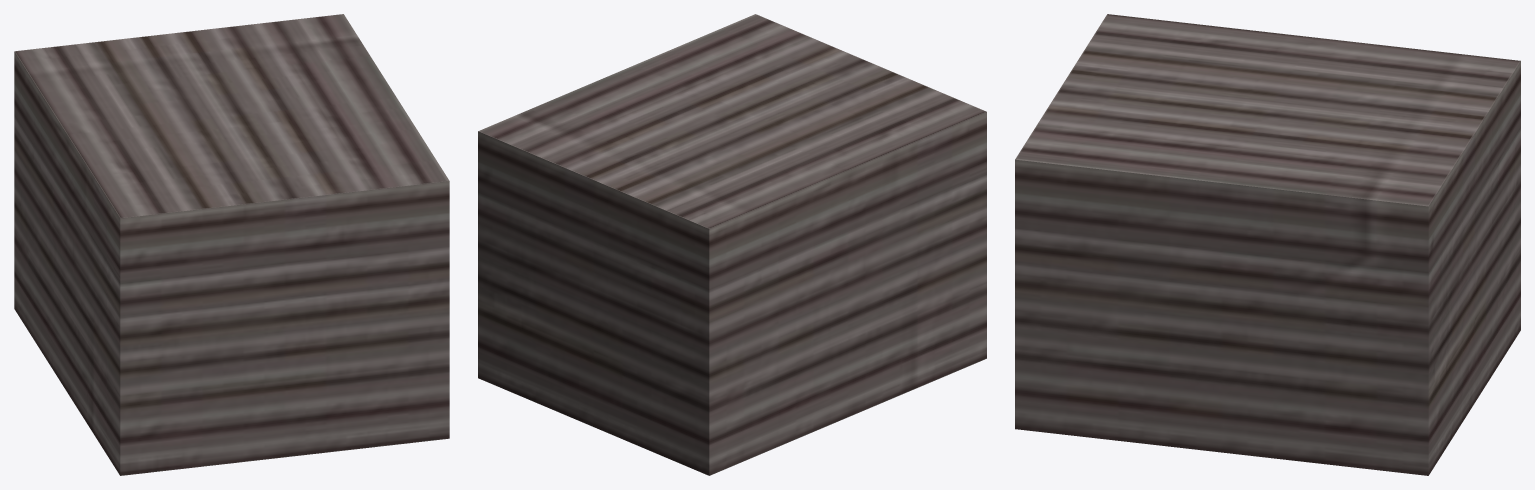
The picture shows the model from 3 angles, left to right: view 1: azimuth 30°, elevation 25°; view 2: azimuth 150°, elevation 25°; view 3: azimuth 270°, elevation 25°; orthographic projection. The views are drawn at different scales.
Visible parts, largest first — view 1: Box3; view 2: Box3; view 3: Box3.
Boxes of the visible parts, x1=… form: Box3: x1=14, y1=14, x2=449, y2=475; Box3: x1=478, y1=14, x2=986, y2=475; Box3: x1=1015, y1=14, x2=1520, y2=475.
Bounding box in the file's own units: 76.59 × 50 × 85.08.
Materials: 1 (1 with a texture image).
